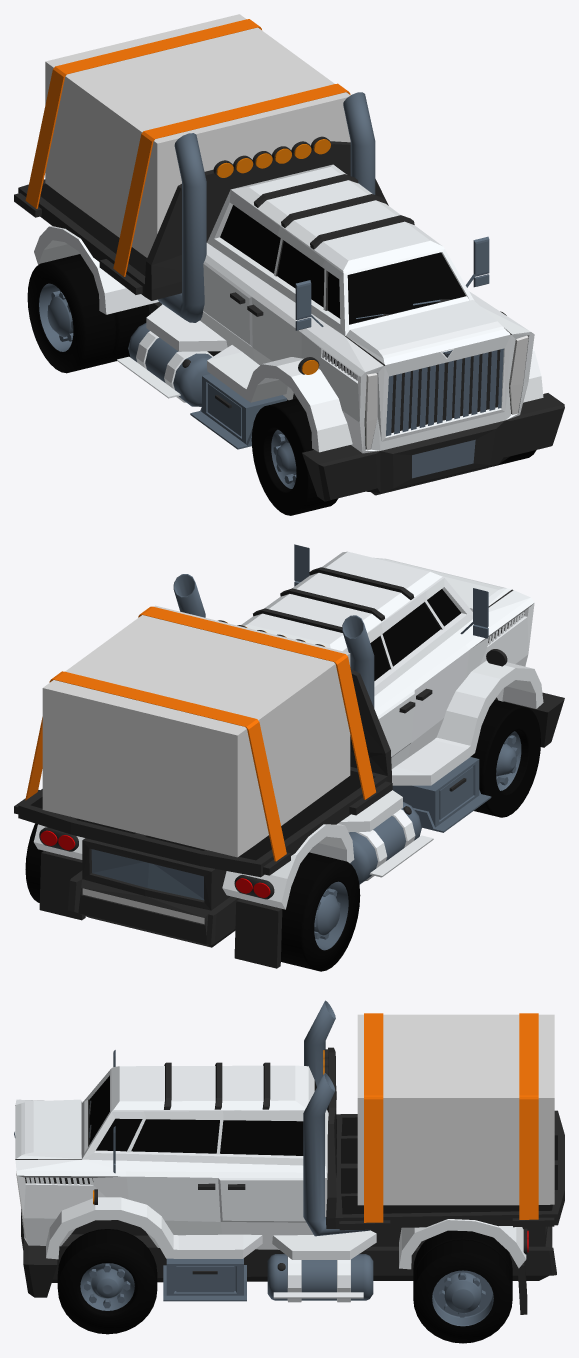
Rendered from FlatbedLowPoly.fbx.
The picture shows the model from 3 angles, top to bottom: view 1: azimuth 30°, elevation 25°; view 2: azimuth 150°, elevation 25°; view 3: azimuth 270°, elevation 25°; orthographic projection. The views are drawn at different scales.
Visible parts, largest first — view 1: TruckBody, Cargo, RearRight, FrontRight, Strap, StrapR, LightLens, RearRightDummy; view 2: TruckBody, Cargo, RearRight, FrontRight, StrapR, Strap, RightRearMudflap, LeftRearMudflap, RearLeft, LightLens; view 3: TruckBody, Cargo, FrontLeft, RearLeft, Strap, StrapR, RearLeftDummy, LeftRearMudflap.
Boxes of the visible parts, x1,y1,x2,y2 form: TruckBody: [14, 92, 564, 501]; Cargo: [45, 14, 350, 257]; RearRight: [27, 255, 115, 373]; FrontRight: [251, 398, 338, 515]; Strap: [113, 83, 350, 276]; StrapR: [25, 19, 261, 208]; LightLens: [365, 335, 528, 450]; RearRightDummy: [77, 254, 149, 363]; TruckBody: [14, 544, 564, 947]; Cargo: [42, 605, 350, 857]; RearRight: [281, 852, 360, 971]; FrontRight: [470, 700, 540, 817]; StrapR: [25, 671, 286, 861]; Strap: [138, 606, 375, 799]; RightRearMudflap: [234, 898, 282, 968]; LeftRearMudflap: [39, 851, 85, 920]; RearLeft: [25, 823, 43, 902]; LightLens: [82, 888, 204, 924]; TruckBody: [14, 1000, 564, 1302]; Cargo: [357, 1014, 554, 1205]; FrontLeft: [57, 1229, 157, 1334]; RearLeft: [413, 1239, 512, 1343]; Strap: [364, 1013, 383, 1222]; StrapR: [519, 1013, 538, 1219]; RearLeftDummy: [413, 1230, 512, 1281]; LeftRearMudflap: [517, 1261, 527, 1314].
Bounding box in the file's own units: 579 × 551 × 1117.
